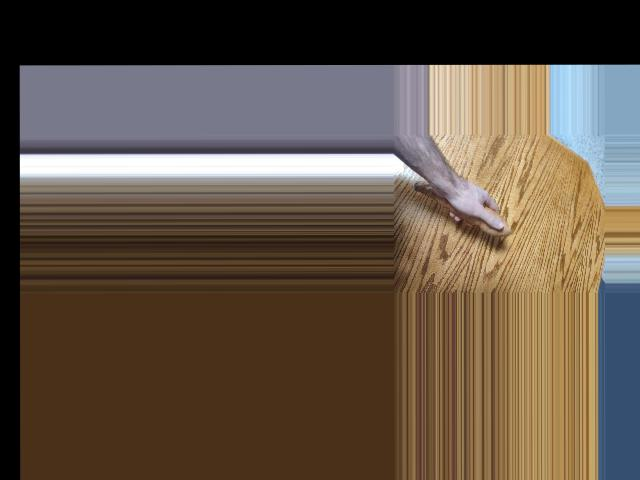sweet_potato: (397, 179, 512, 238)
